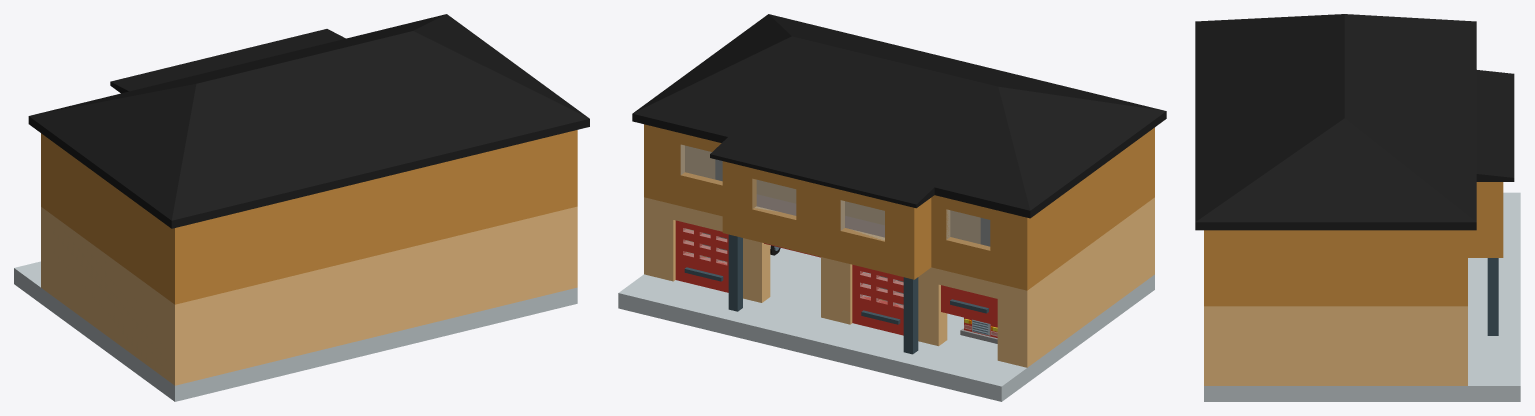
The model's file is fire_station_with_fire_trucks.glb.
3 renders of one model, left to right at view 1: azimuth 30°, elevation 25°; view 2: azimuth 150°, elevation 25°; view 3: azimuth 270°, elevation 25°, orthographic. The views are drawn at different scales.
Parts seen in each view (by area): view 1: group730118309, group349087555, group1651408630, group761249462, group756613034, group1956909727, group790440947, group657411647, group342433108, group184445798, group1942480374, group932858334; view 2: group349087555, group790440947, group761249462, group1956909727, group756613034, group657411647, group342433108, group666795035, group174406738, group1028740547, group1354781067_c18d8a, group1526544648_31a204 (+30 smaller); view 3: group349087555, group1956909727, group1942480374, group129574126, group790440947, group761249462, group342433108, group1449935880, group184445798, group1259647133, group537195127, group1672919168 (+3 smaller).
Boxes of the visible parts, left/top/right/bottom form: group730118309: left=170, top=130, right=577, bottom=304; group349087555: left=131, top=31, right=489, bottom=199; group1651408630: left=190, top=210, right=562, bottom=381; group761249462: left=28, top=84, right=272, bottom=224; group756613034: left=50, top=213, right=190, bottom=385; group1956909727: left=348, top=14, right=589, bottom=147; group790440947: left=14, top=261, right=577, bottom=401; group657411647: left=45, top=136, right=171, bottom=301; group342433108: left=110, top=29, right=345, bottom=93; group184445798: left=28, top=120, right=589, bottom=228; group1942480374: left=562, top=206, right=577, bottom=291; group932858334: left=41, top=223, right=49, bottom=293; group349087555: left=728, top=36, right=1069, bottom=187; group790440947: left=618, top=248, right=1154, bottom=401; group761249462: left=934, top=86, right=1166, bottom=214; group1956909727: left=632, top=14, right=862, bottom=139; group756613034: left=1035, top=197, right=1154, bottom=361; group657411647: left=1031, top=130, right=1151, bottom=286; group342433108: left=710, top=137, right=934, bottom=208; group666795035: left=796, top=179, right=844, bottom=261; group174406738: left=990, top=209, right=1031, bottom=290; group1028740547: left=644, top=197, right=1035, bottom=305; group1354781067_c18d8a: left=675, top=220, right=728, bottom=292; group1526544648_31a204: left=852, top=264, right=903, bottom=335; group349087555: left=1195, top=14, right=1476, bottom=173; group1956909727: left=1195, top=118, right=1476, bottom=226; group1942480374: left=1204, top=306, right=1450, bottom=385; group129574126: left=1212, top=230, right=1459, bottom=306; group790440947: left=1204, top=192, right=1520, bottom=401; group761249462: left=1195, top=14, right=1476, bottom=69; group342433108: left=1476, top=70, right=1514, bottom=181; group1449935880: left=1468, top=182, right=1494, bottom=257; group184445798: left=1195, top=226, right=1476, bottom=230; group1259647133: left=1450, top=322, right=1467, bottom=385; group537195127: left=1487, top=258, right=1498, bottom=335; group1672919168: left=1494, top=182, right=1503, bottom=257.
Size of the model in its own units: 2.16 by 1.2 by 1.48.
